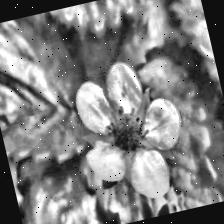Blossom Blight: (100, 100, 157, 163)
